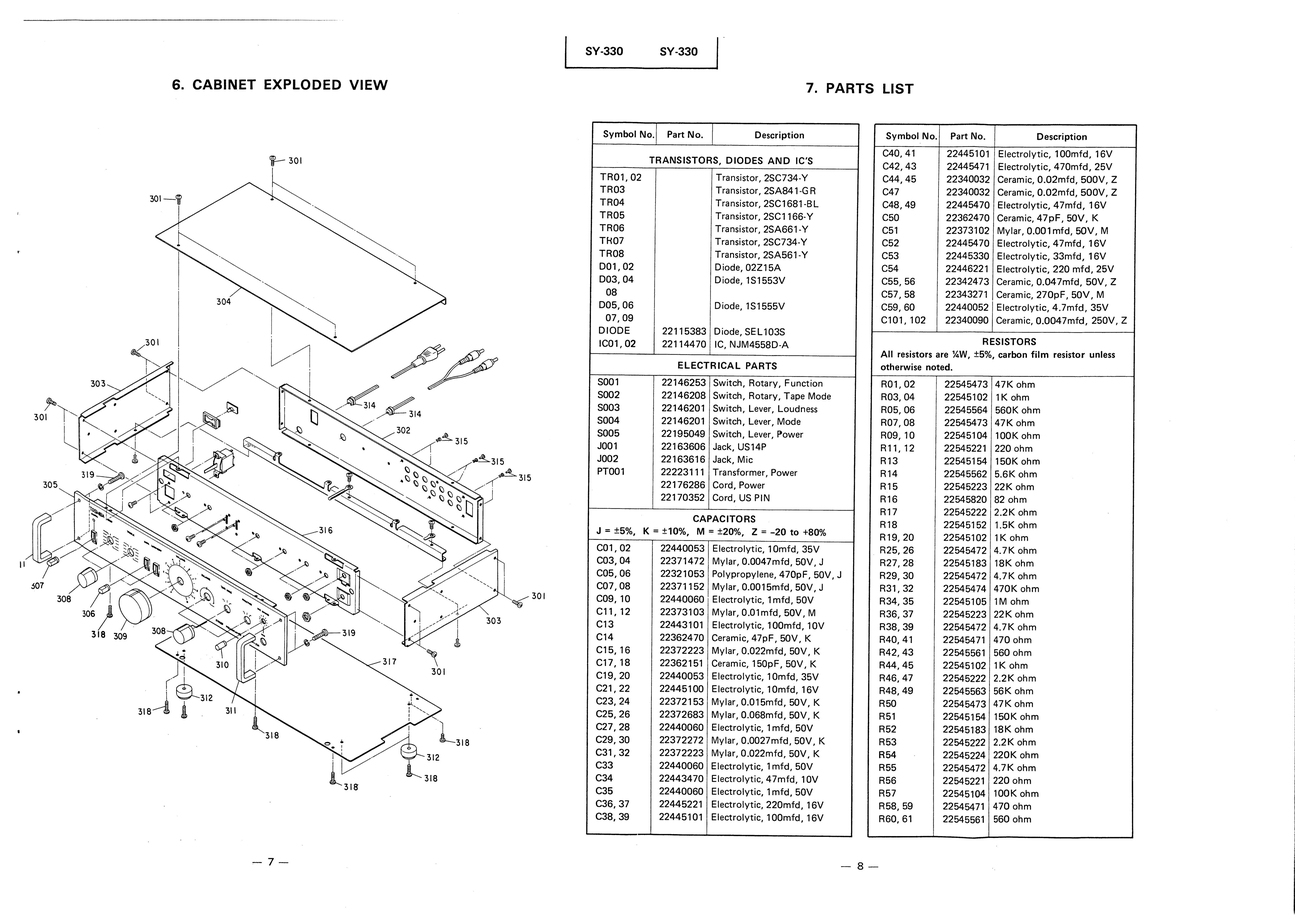C01_02: (595, 543, 632, 554)
C03_04: (595, 554, 631, 567)
C05_06: (596, 568, 632, 578)
C07_08: (595, 581, 633, 591)
C09_10: (596, 593, 631, 604)
C101_102: (880, 313, 927, 327)
C11_12: (595, 606, 631, 617)
C13: (596, 619, 615, 628)
C14: (594, 631, 614, 642)
C15_16: (595, 644, 632, 655)
C17_18: (596, 656, 631, 669)
C19_20: (595, 670, 631, 681)
C21_22: (593, 682, 631, 694)
C23_24: (596, 696, 633, 706)
C25_26: (595, 707, 631, 720)
C27_28: (595, 721, 631, 732)
C29_30: (595, 734, 632, 745)
C31_32: (595, 748, 631, 758)
C33: (595, 760, 613, 770)
C34: (595, 772, 615, 782)
C35: (595, 784, 615, 797)
C36_37: (595, 799, 630, 808)
C38_39: (595, 810, 631, 822)
C40_41: (881, 148, 917, 159)
C42_43: (881, 160, 917, 172)
C44_45: (882, 173, 917, 184)
C47: (882, 186, 901, 197)
C48_49: (881, 199, 918, 211)
C50: (881, 213, 900, 224)
C51: (882, 225, 899, 234)
C52: (881, 238, 900, 249)
C53: (881, 251, 901, 261)
C54: (881, 264, 899, 274)
C55_56: (881, 275, 915, 288)
C57_58: (881, 289, 916, 301)
C59_60: (881, 301, 916, 313)
D01_02: (599, 260, 635, 273)
D03_04: (597, 273, 637, 285)
D05_06: (598, 298, 635, 311)
DIODE: (598, 325, 629, 337)
IC01_02: (597, 337, 640, 350)
J001: (595, 440, 621, 451)
J002: (596, 452, 620, 463)
PT001: (595, 467, 625, 478)
R01_02: (881, 378, 917, 391)
R03_04: (880, 392, 916, 403)
R05_06: (879, 404, 916, 415)
R07_08: (880, 417, 915, 427)
R09_10: (880, 429, 916, 440)
R11_12: (879, 443, 917, 454)
R13: (879, 455, 900, 467)
R14: (880, 468, 898, 478)
R15: (879, 482, 899, 492)
R16: (880, 494, 899, 505)
R17: (879, 507, 899, 516)
R18: (879, 519, 899, 530)
R19_20: (878, 532, 916, 542)
R25_26: (878, 544, 915, 557)
R27_28: (878, 556, 915, 568)
R29_30: (878, 570, 916, 580)
R31_32: (878, 582, 916, 595)
R34_35: (879, 596, 915, 607)
R36_37: (879, 608, 914, 619)
R38_39: (878, 621, 916, 632)
R40_41: (878, 634, 915, 645)
R42_43: (878, 647, 915, 658)
R44_45: (878, 661, 917, 671)
R46_47: (879, 673, 916, 683)
R48_49: (878, 685, 914, 695)
R50: (877, 699, 898, 708)
R51: (876, 711, 897, 721)
R52: (878, 724, 897, 733)
R53: (878, 737, 898, 747)
R54: (878, 749, 897, 759)
R55: (876, 761, 899, 774)
R56: (878, 775, 899, 785)
R57: (878, 787, 898, 798)
R58_59: (878, 801, 914, 811)
R60_61: (877, 813, 913, 824)
S001: (596, 376, 620, 387)
S002: (597, 389, 621, 400)
S003: (596, 403, 623, 412)
S004: (596, 415, 620, 426)
S005: (596, 427, 621, 437)
TR01_02: (598, 170, 645, 183)
TR03: (599, 184, 626, 195)
TR04: (600, 196, 626, 206)
TR05: (600, 208, 626, 221)
TR06: (599, 223, 625, 232)
TR07: (598, 233, 628, 248)
TR08: (599, 246, 627, 258)
